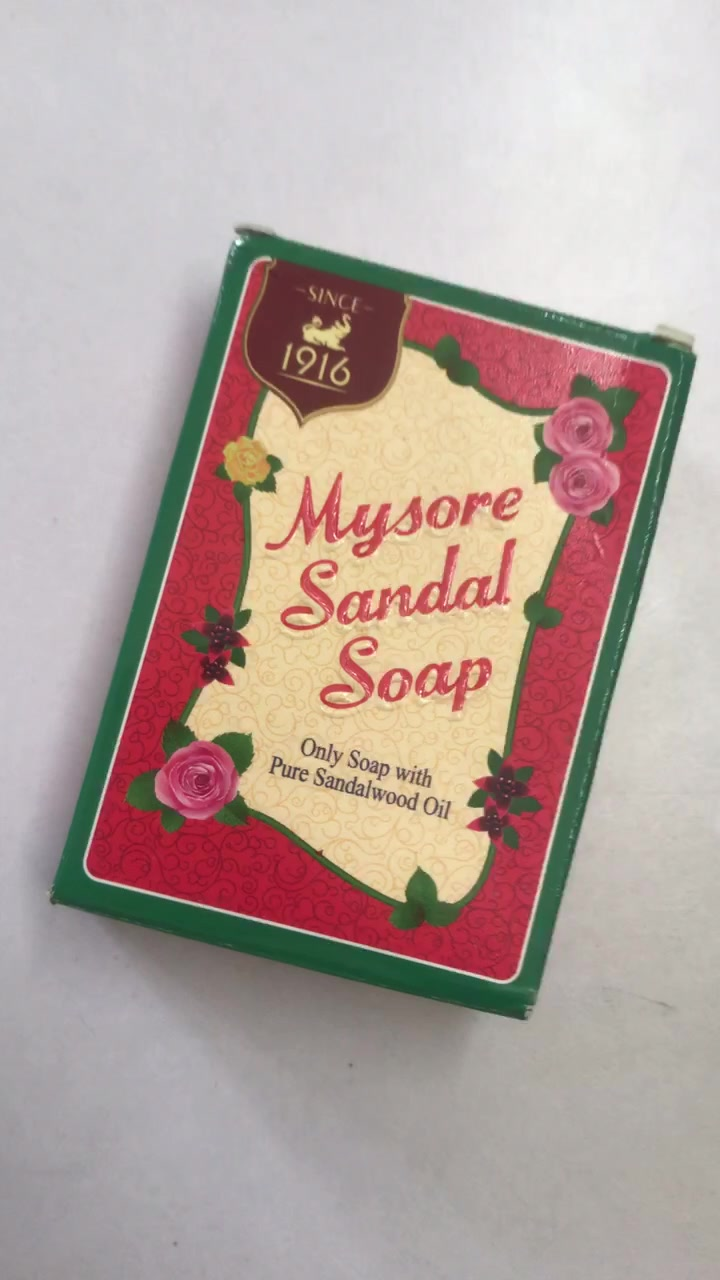mysore sandal soap: (60, 231, 695, 1018)
